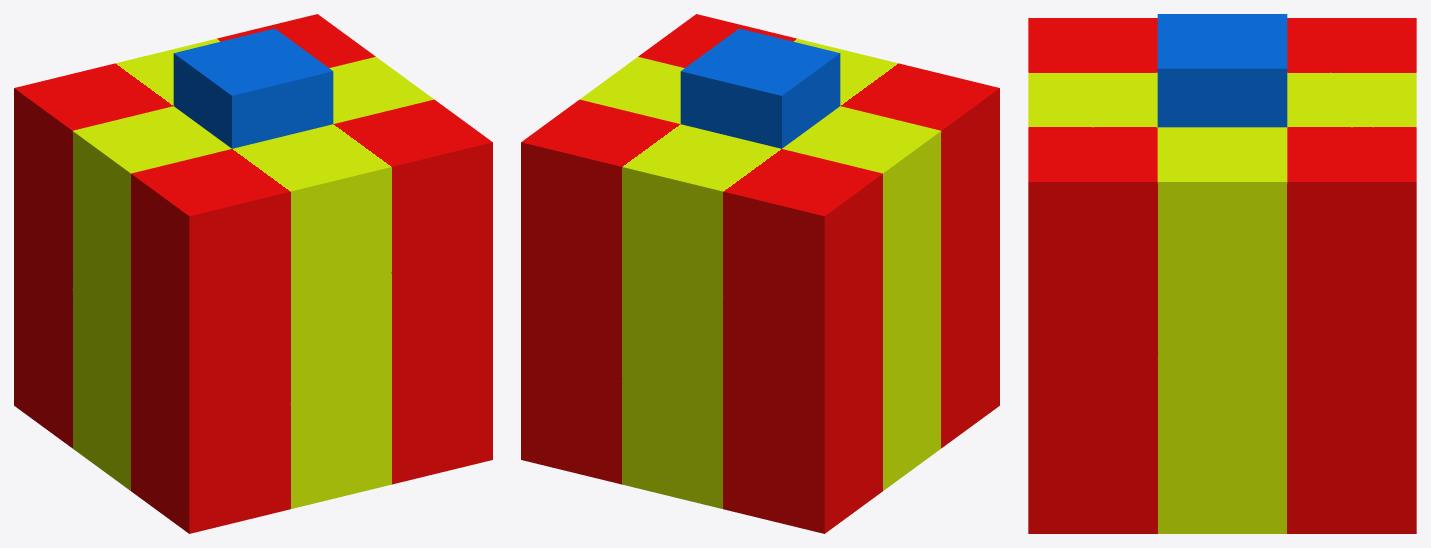
File: Gift.fbx
3 renders of one model, left to right at view 1: azimuth 30°, elevation 25°; view 2: azimuth 150°, elevation 25°; view 3: azimuth 270°, elevation 25°, orthographic. The views are drawn at different scales.
Visible parts, largest first — view 1: Gift; view 2: Gift; view 3: Gift.
Boxes of the visible parts, <box> form: Gift: <box>14,14,492,533</box>; Gift: <box>521,14,999,533</box>; Gift: <box>1028,14,1416,533</box>.
Bounding box in the file's own units: 6 × 7 × 6.
1 material, 1 textured.
